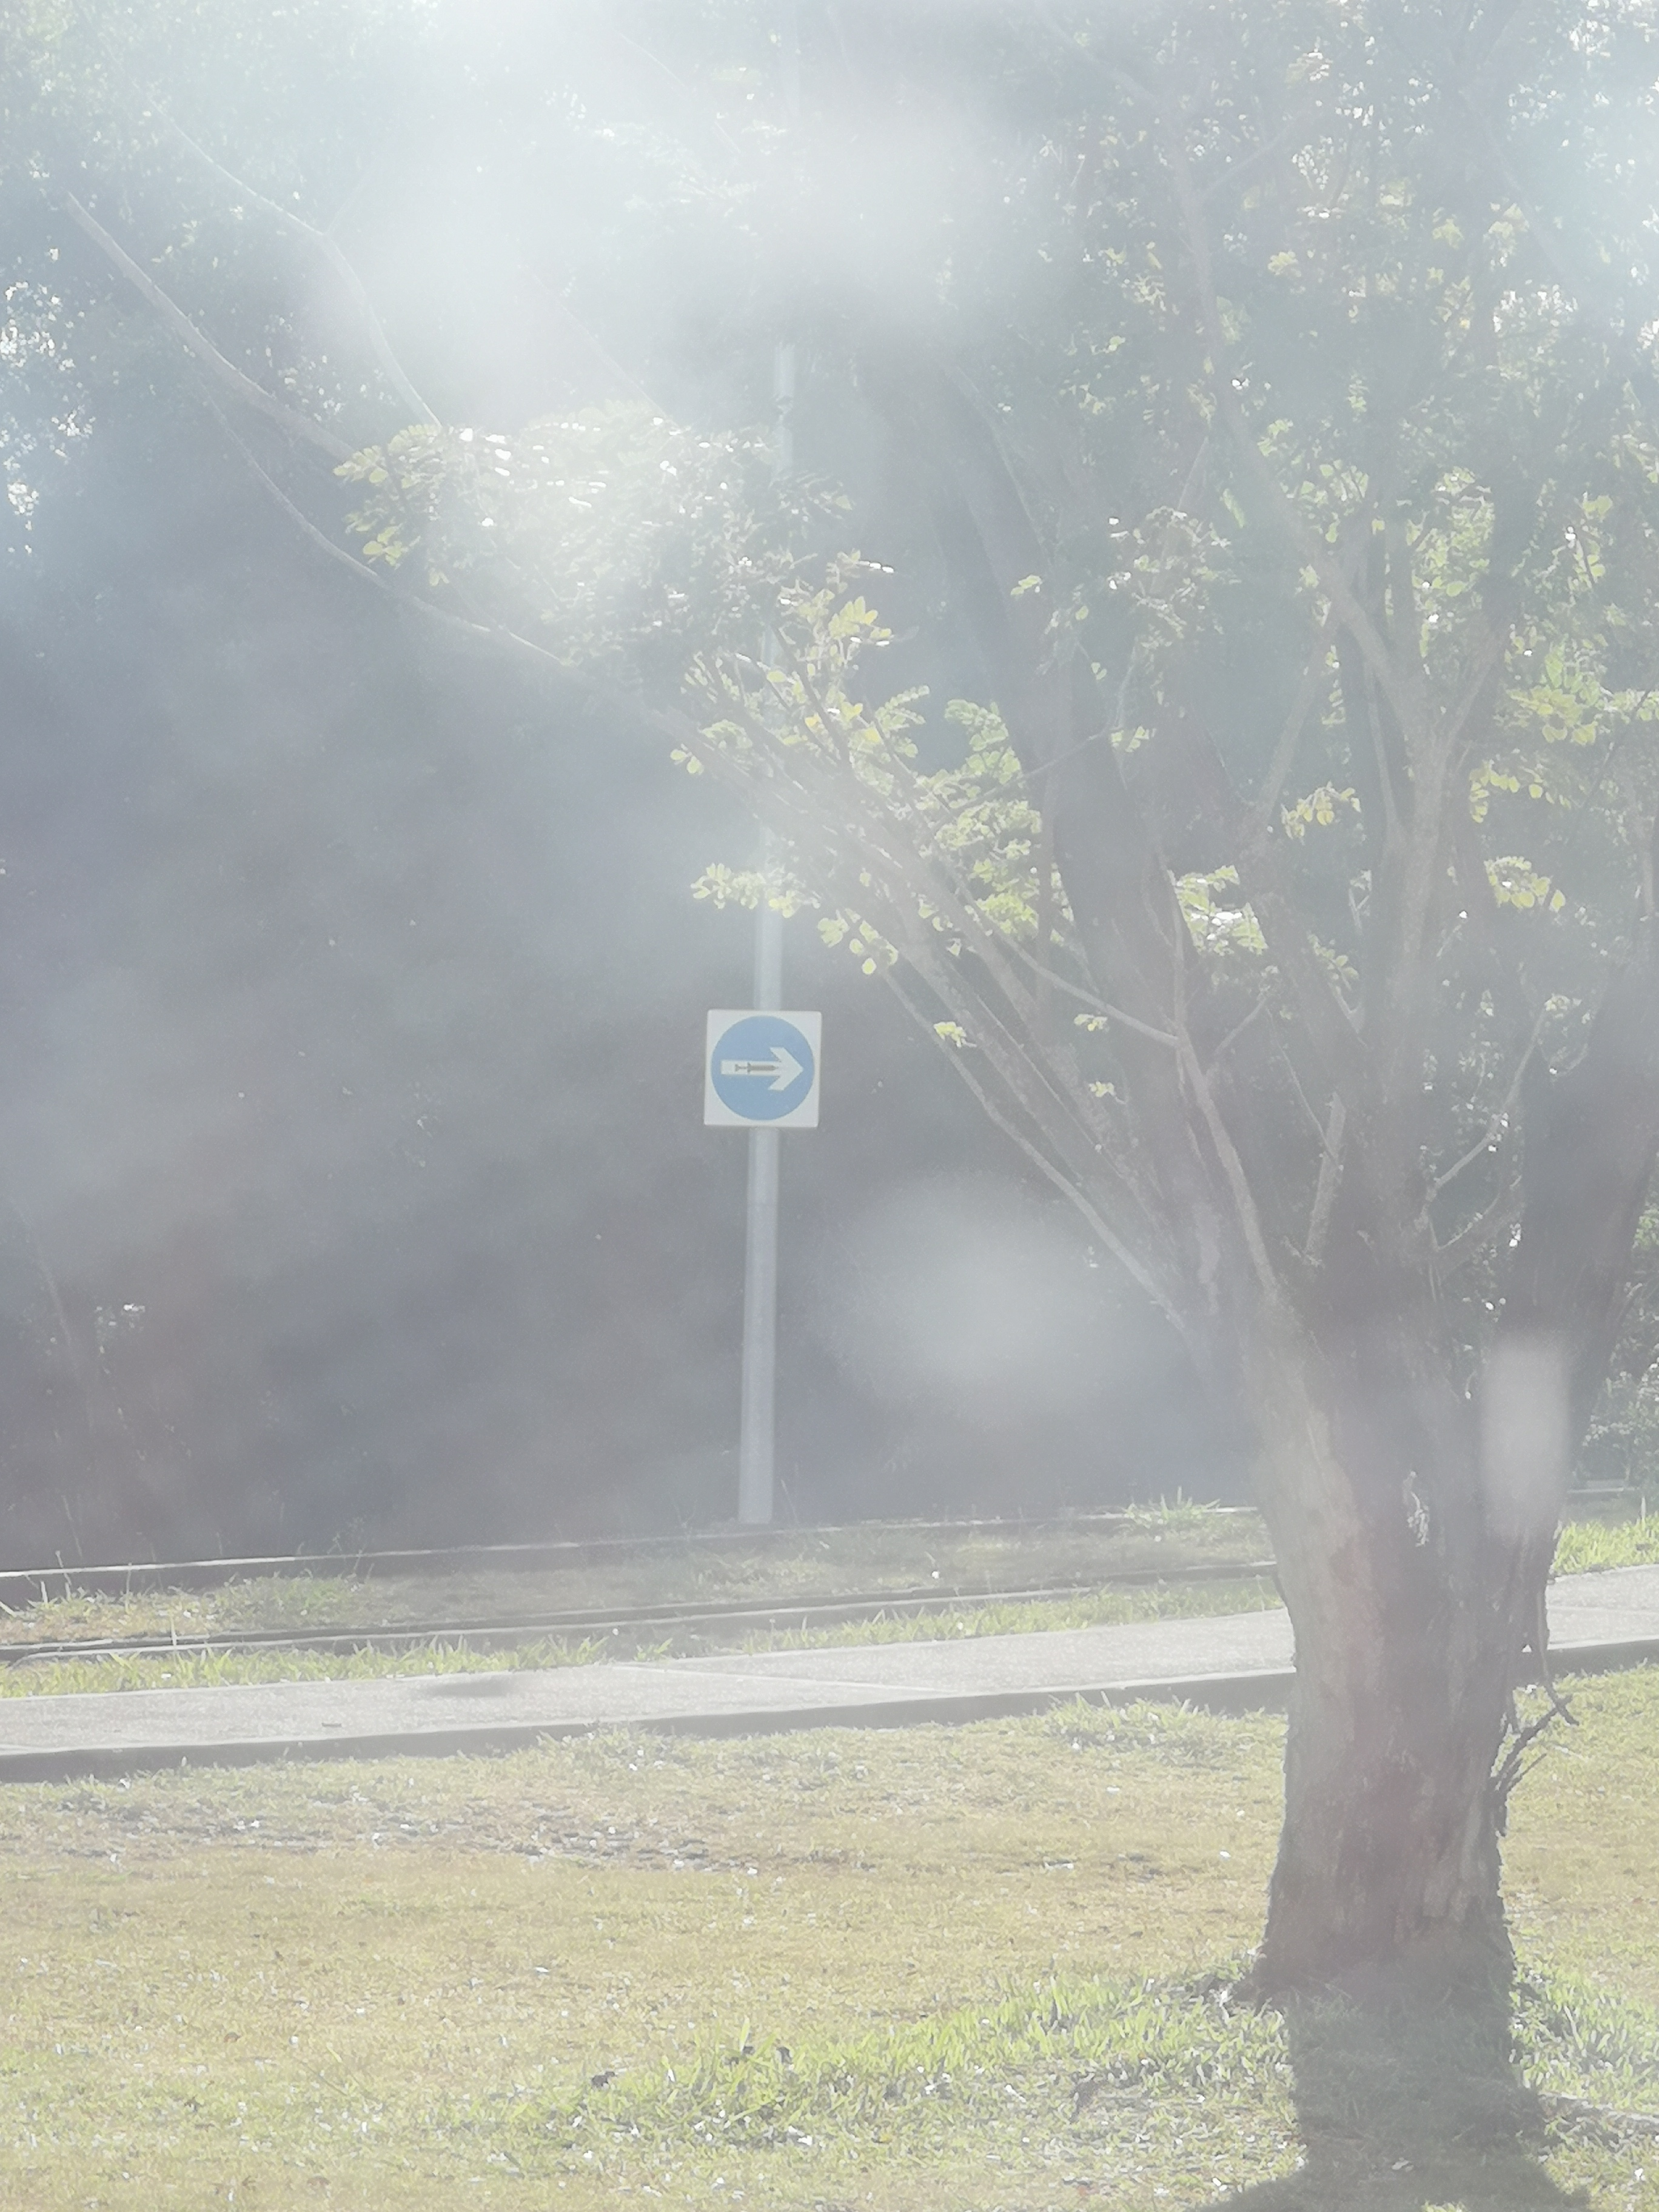turn right: (701, 1008, 831, 1144)
